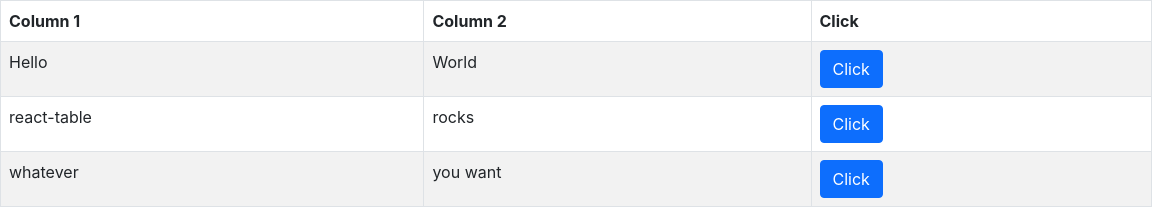
Test case: OurTable tests › click on a header and a sort caret should appear
Expected: the cell with test id "sampleTestId-cell-row-0-col-col1" reads "Hello", [9,52,48,72]
Click the column heading with test id "sampleTestId-header-col1" at [212, 21], box [0,0,424,42]
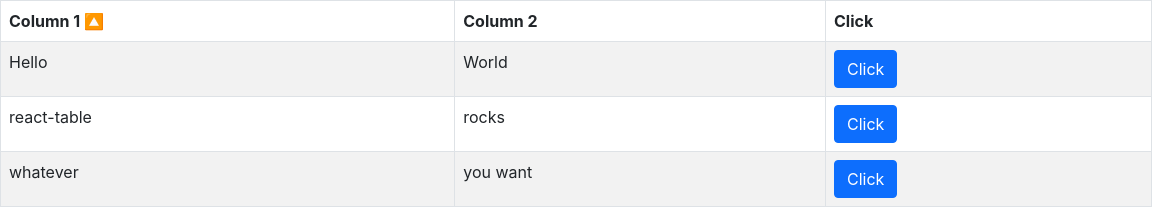
Expected: the text "🔼" is shown, [80,11,104,31]
Click the column heading with test id "sampleTestId-header-col1" at [228, 21], box [0,0,455,42]
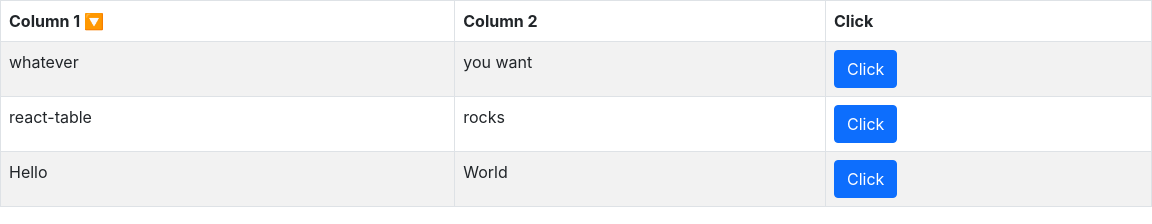
Expected: the text "🔽" is shown, [80,11,104,31]
